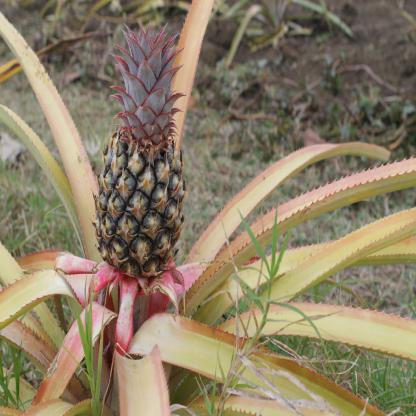Pineapple: (88, 19, 190, 280)
